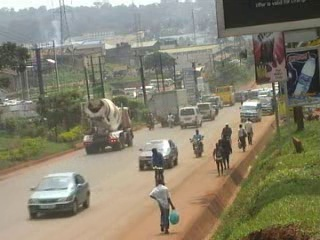Car: (25, 168, 92, 221), (135, 137, 179, 172)
Motorcycle: (187, 129, 206, 158), (142, 110, 156, 130), (164, 112, 176, 130)
